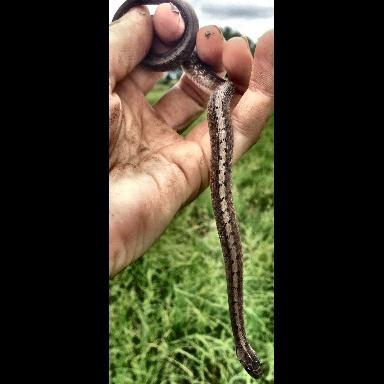snake: (186, 66, 263, 380)
